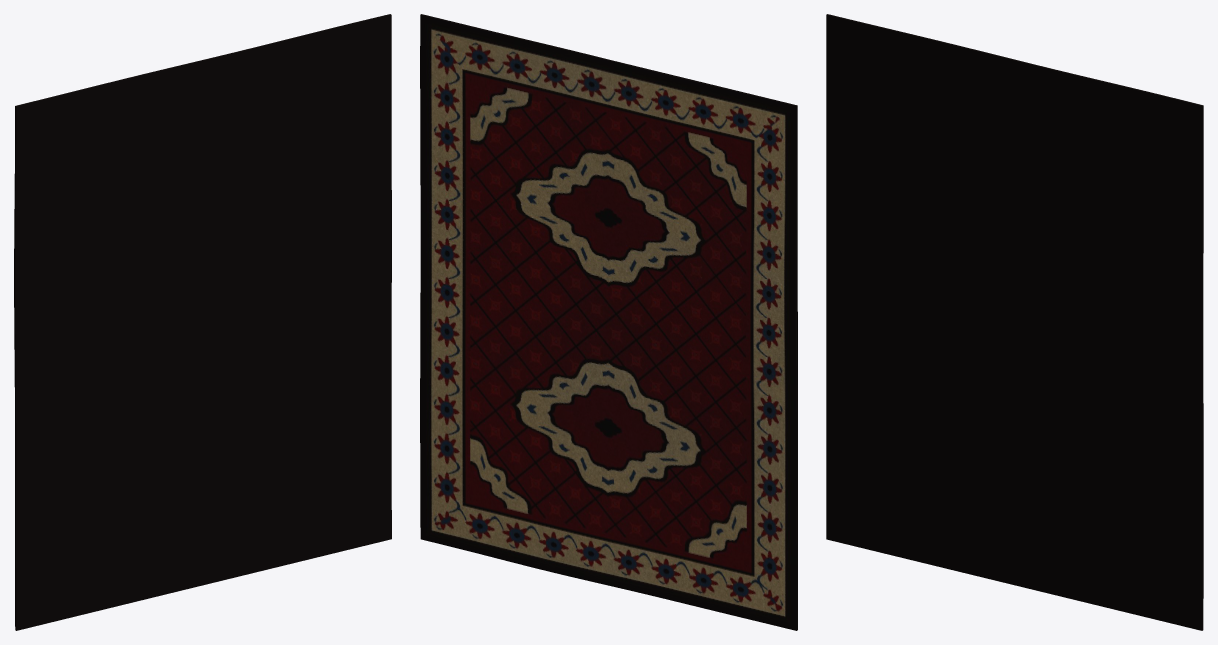
File: carpet_wall_web.glb
3 renders of one model, left to right at view 1: azimuth 30°, elevation 25°; view 2: azimuth 150°, elevation 25°; view 3: azimuth 330°, elevation 25°, orthographic.
Visible parts, largest first — view 1: CarpetWall_Body; view 2: CarpetWall_Body; view 3: CarpetWall_Body.
Part boxes in pixels (x1,y1,x2,y2): CarpetWall_Body: [14, 14, 391, 630]; CarpetWall_Body: [420, 14, 797, 630]; CarpetWall_Body: [826, 14, 1203, 630].
Size of the model in its own units: 1.5 by 2 by 0.0157.
1 material, 1 textured.
